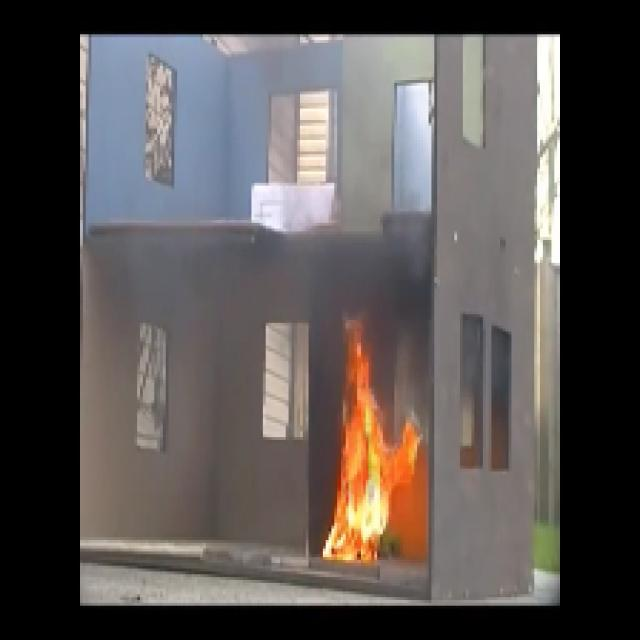Fire: (332, 314, 410, 562)
Smoke: (324, 237, 412, 305)
